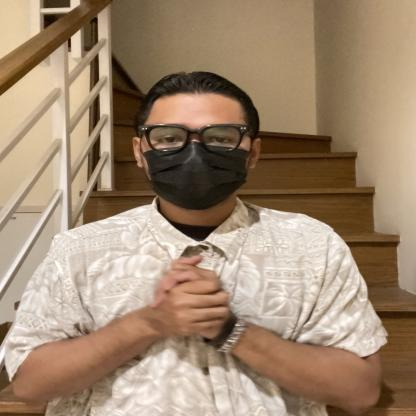Grieve: (66, 240, 335, 364)
